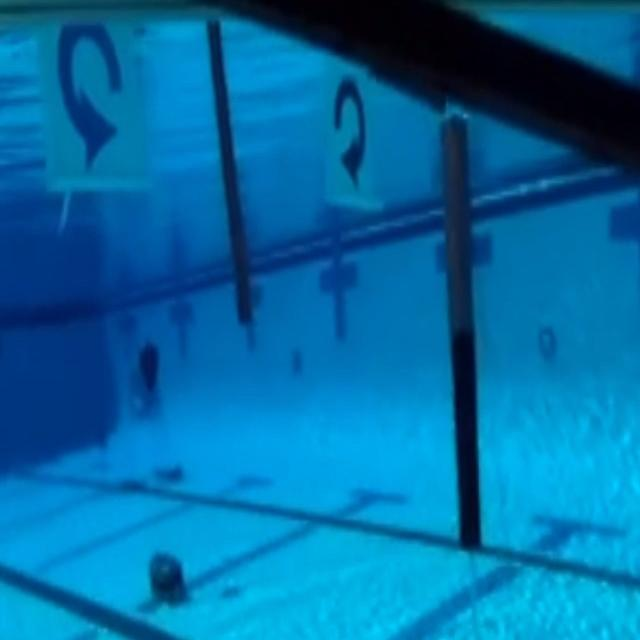Gate: (0, 0, 497, 578)
